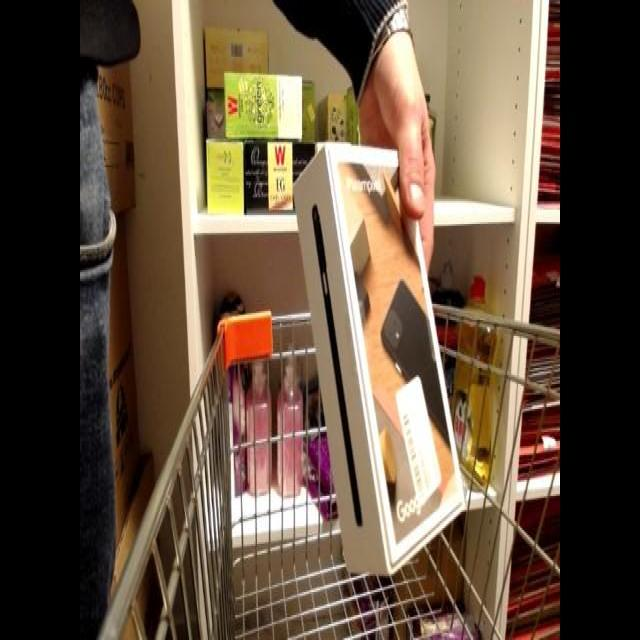Pixel 4: (284, 121, 500, 581)
